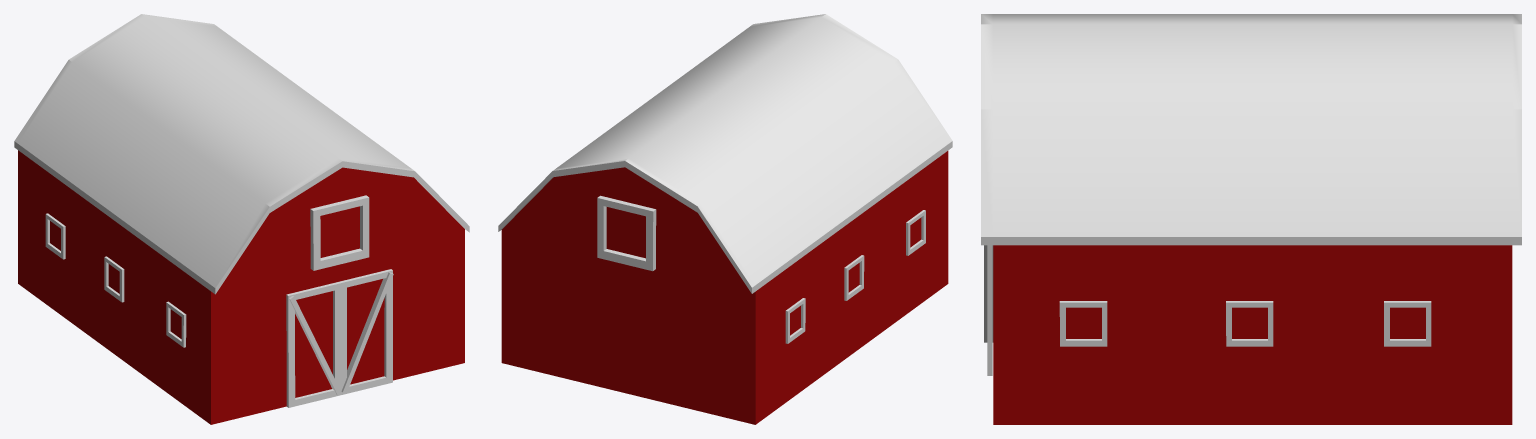
The model's file is Barn.fbx.
The picture shows the model from 3 angles, left to right: view 1: azimuth 30°, elevation 25°; view 2: azimuth 150°, elevation 25°; view 3: azimuth 270°, elevation 25°; orthographic projection. The views are drawn at different scales.
Visible parts, largest first — view 1: pCube125; view 2: pCube125; view 3: pCube125.
Part boxes in pixels (box(x1,y1,x2,y2)): pCube125: box(14, 14, 469, 424); pCube125: box(498, 14, 952, 424); pCube125: box(981, 14, 1521, 424).
Size of the model in its own units: 2.03 by 1.77 by 2.73.
